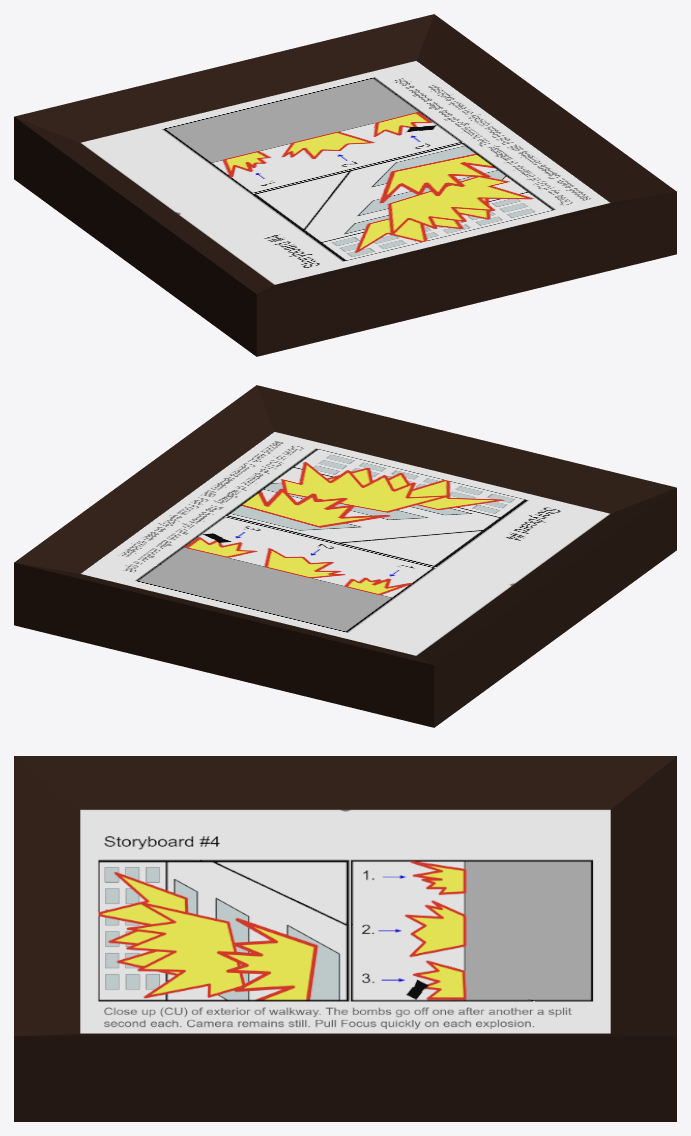
Rendered from Museum Picture Frame.fbx.
The picture shows the model from 3 angles, top to bottom: view 1: azimuth 30°, elevation 25°; view 2: azimuth 150°, elevation 25°; view 3: azimuth 270°, elevation 25°; orthographic projection. The views are drawn at different scales.
Visible parts, largest first — view 1: Cube; view 2: Cube; view 3: Cube.
Boxes of the visible parts, left/top/right/bottom form: Cube: left=14, top=14, right=676, bottom=356; Cube: left=14, top=385, right=676, bottom=727; Cube: left=14, top=756, right=676, bottom=1121.
Bounding box in the file's own units: 1000 × 142 × 1000.
